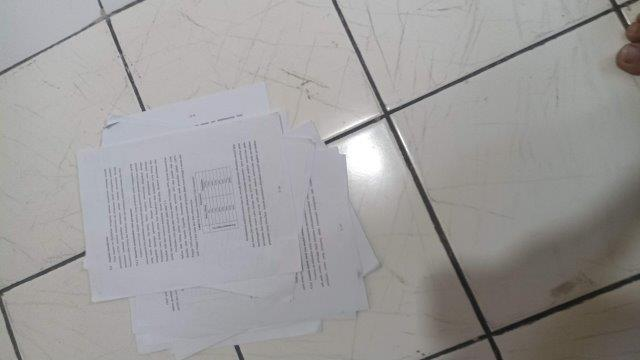kertas: (82, 77, 383, 353)
